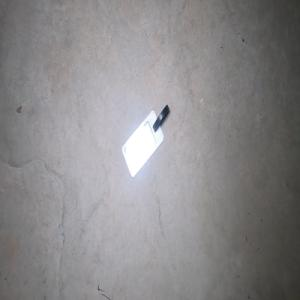LuggageTag: (120, 102, 170, 178)
